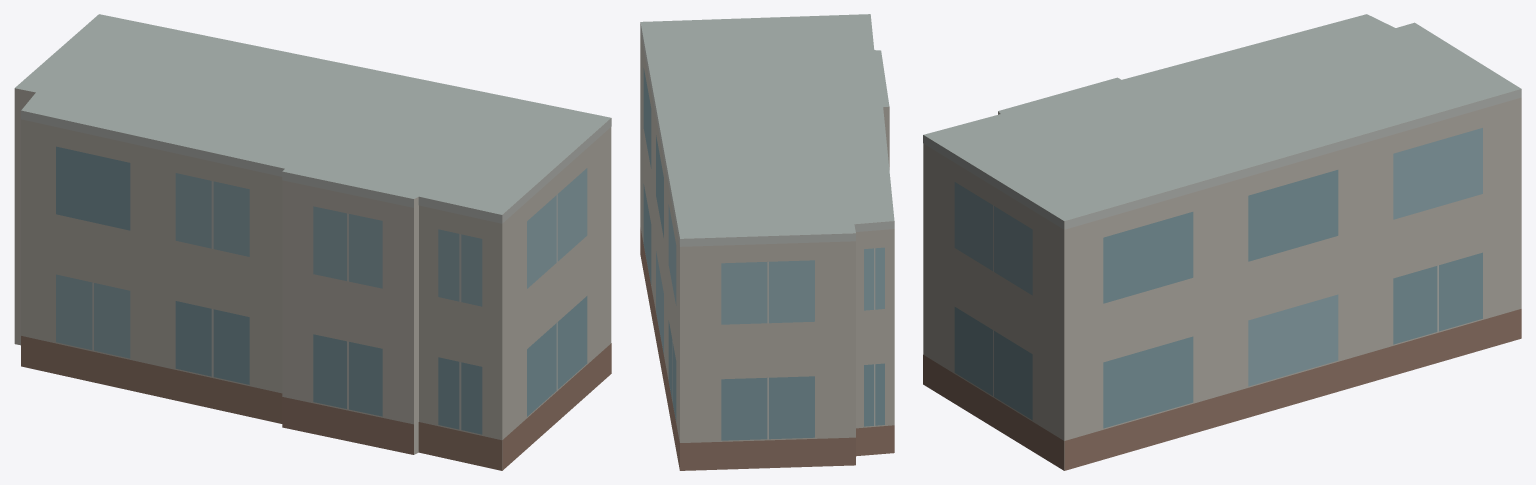
The model's file is survey-upis-32619279.glb.
3 views of the same model, side by side, from view 1: azimuth 30°, elevation 25°; view 2: azimuth 150°, elevation 25°; view 3: azimuth 270°, elevation 25° (orthographic). The views are drawn at different scales.
Parts seen in each view (by area): view 1: survey-upis-32619279.tmp; view 2: survey-upis-32619279.tmp; view 3: survey-upis-32619279.tmp.
Boxes of the visible parts, box(x1,y1,x2,y2) form: survey-upis-32619279.tmp: box(14, 14, 611, 470); survey-upis-32619279.tmp: box(640, 14, 894, 470); survey-upis-32619279.tmp: box(923, 14, 1521, 470).
Size of the model in its own units: 12.65 by 7.1 by 15.44.
